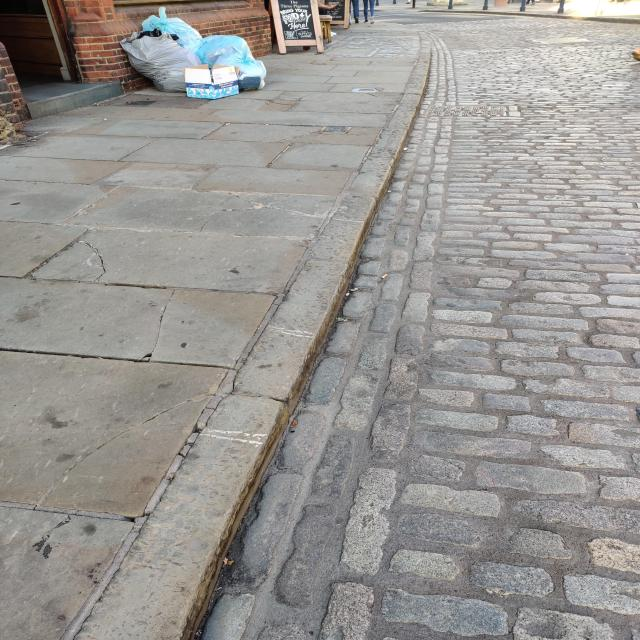litter: (101, 3, 281, 107)
